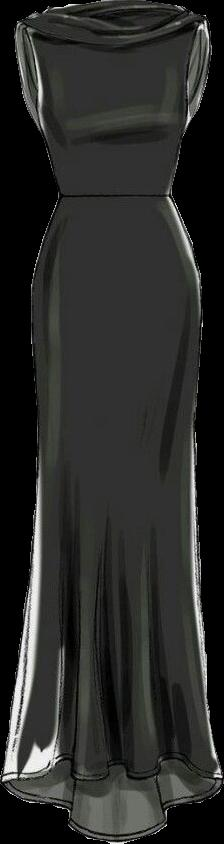Bodice: (14, 1, 211, 198)
Hemline: (0, 751, 223, 786)
Neckline: (65, 4, 174, 23)
Skirt: (2, 196, 222, 843)
Waistline: (58, 189, 176, 205)
